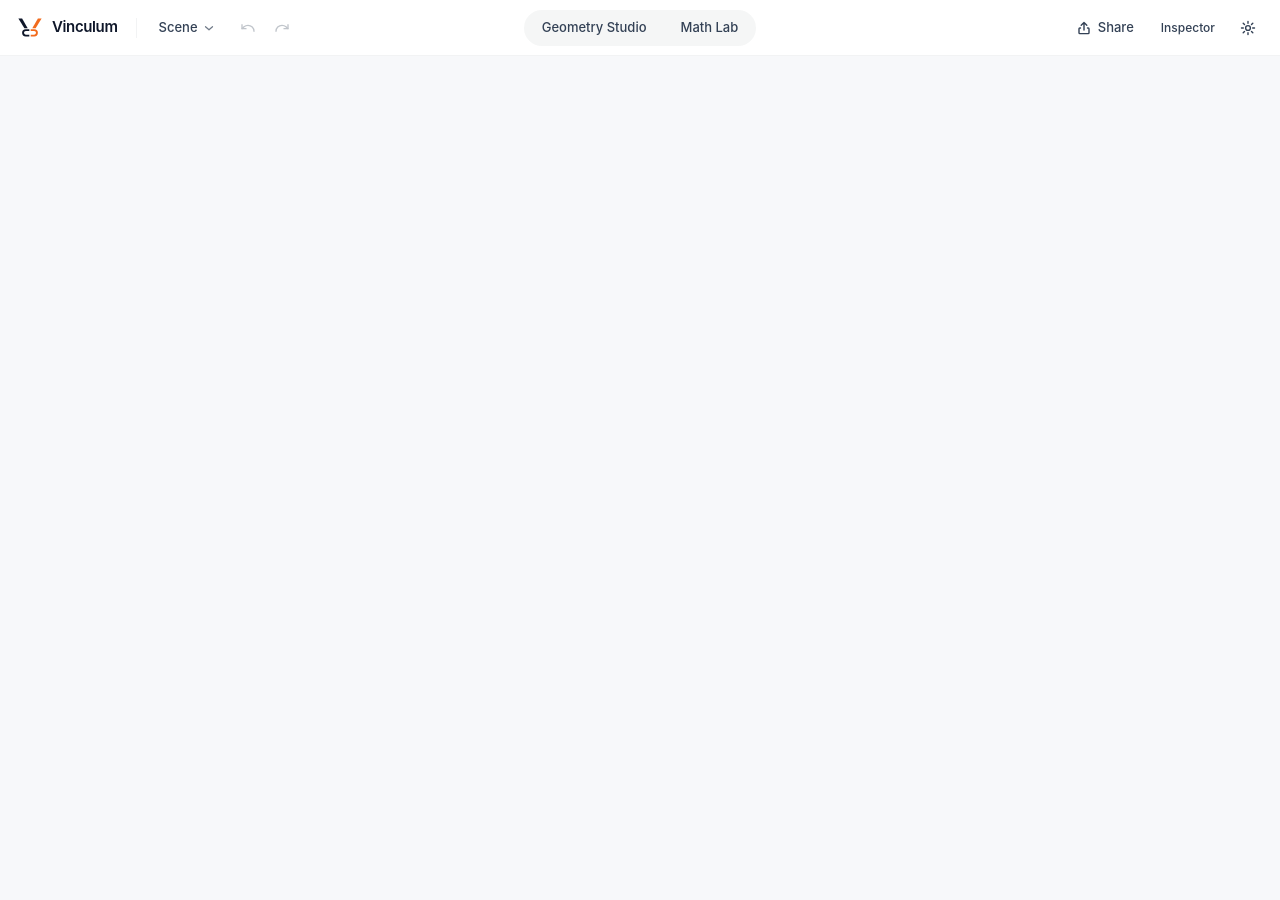
Scenario: TopToolbar scene menu › refreshes 3D export availability when Share opens after the canvas mounts
Click the button "Share" at coordinates (1105, 28), box [1066,12,1144,44]
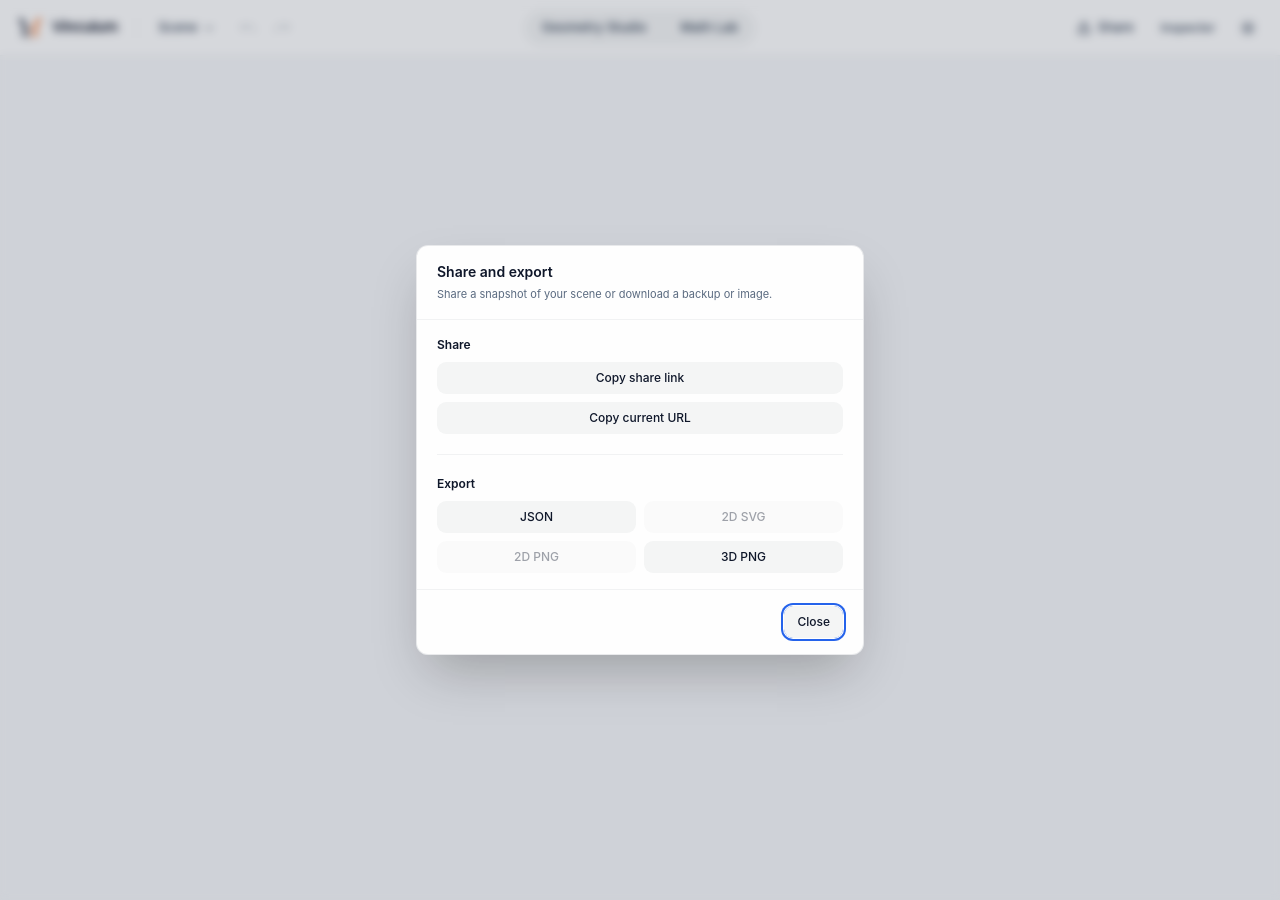
Result: the button "3D PNG" is enabled at [644,541,843,573]
